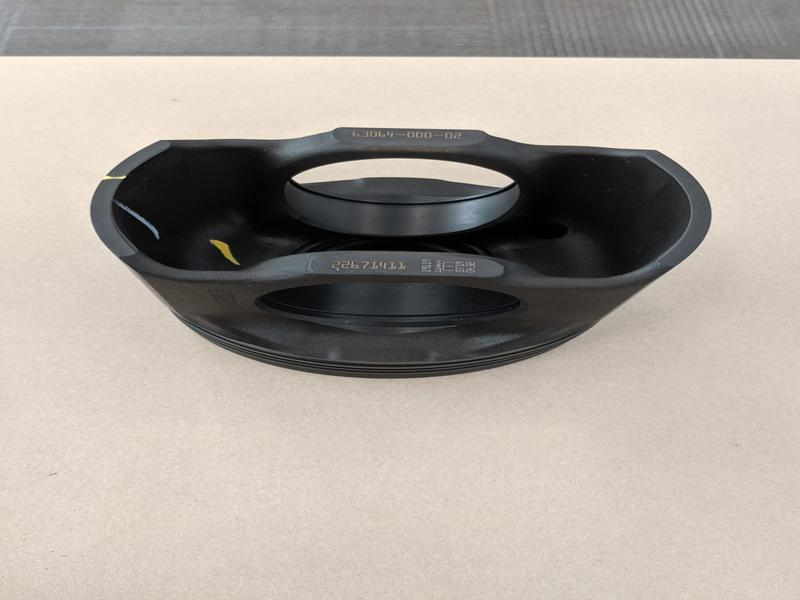piston: (86, 120, 718, 382)
